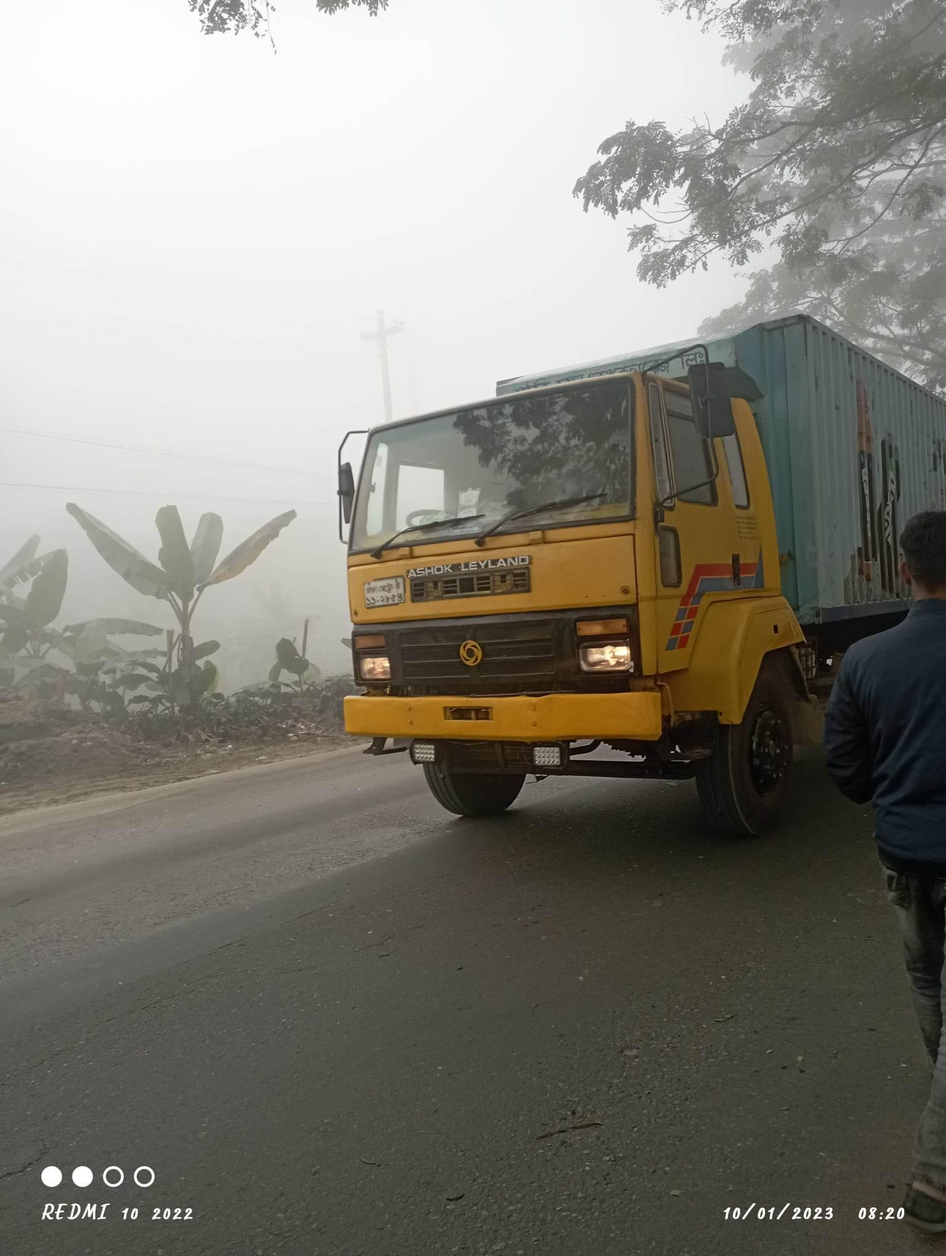Truck: (265, 295, 934, 845)
